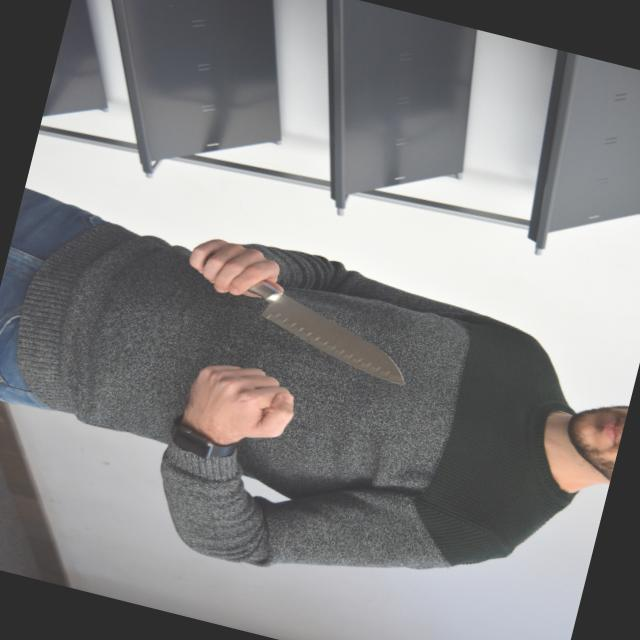knife: (214, 264, 430, 392)
